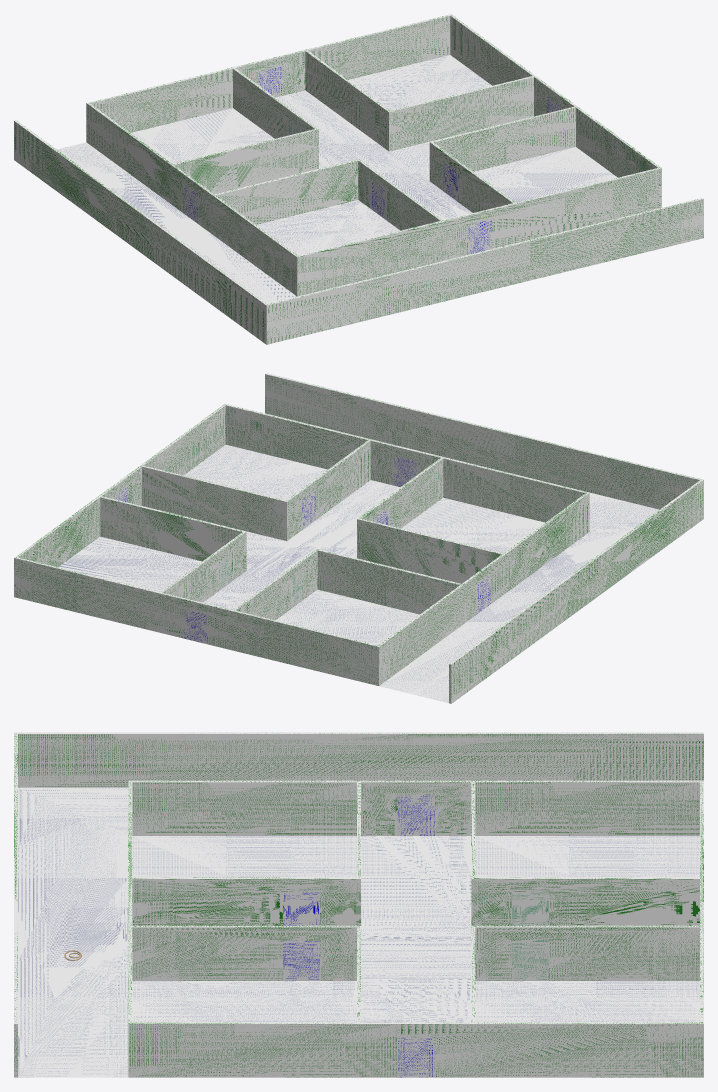
3 views of the same model, one above another, from view 1: azimuth 30°, elevation 25°; view 2: azimuth 150°, elevation 25°; view 3: azimuth 270°, elevation 25° (orthographic). The views are drawn at different scales.
Visible parts, largest first — view 1: SketchUp (×15); view 2: SketchUp (×15); view 3: SketchUp (×19).
Boxes of the visible parts, x1,y1,x2,y2 form: SketchUp (×15): (14,14,703,344); SketchUp (×15): (14,373,703,703); SketchUp (×19): (14,732,703,1077).
Size of the model in its own units: 1050 by 1050 by 90.94.
